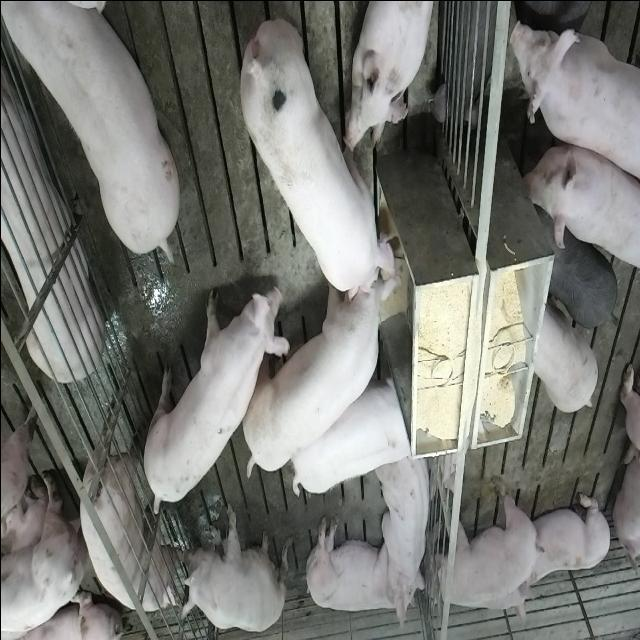Feeding: (236, 16, 400, 302), (240, 256, 401, 478)
Lateral_lying: (302, 513, 425, 629)
Sitting: (178, 503, 286, 633)
Standing: (0, 0, 176, 259), (139, 271, 282, 518), (506, 10, 638, 197), (80, 407, 182, 612), (287, 369, 415, 497), (523, 137, 637, 276), (432, 472, 538, 608), (0, 480, 77, 640), (530, 296, 598, 412), (546, 222, 618, 331), (509, 0, 605, 32)
Sternal_lying: (0, 30, 100, 378), (346, 0, 438, 152), (376, 450, 434, 613), (525, 488, 611, 592), (482, 568, 532, 623)
